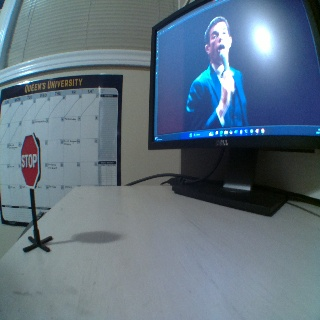sign_stop: (20, 136, 40, 187)
